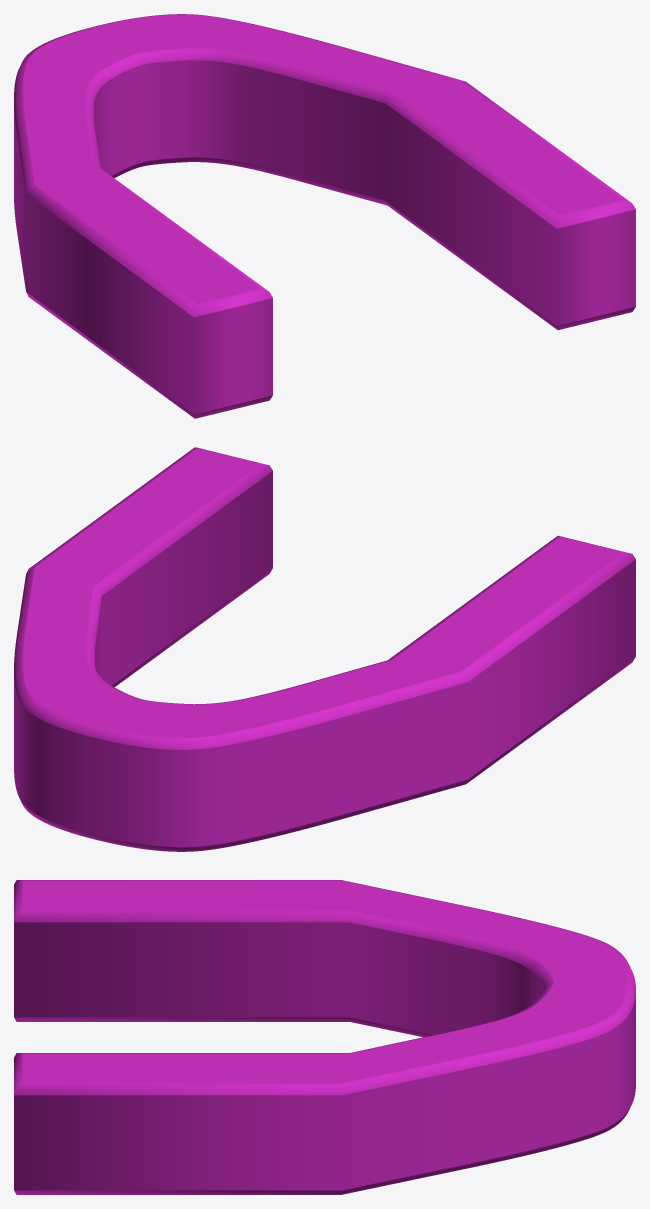
Rendered from Letter_V_Capital_CoolFont.fbx.
3 renders of one model, top to bottom at view 1: azimuth 30°, elevation 25°; view 2: azimuth 150°, elevation 25°; view 3: azimuth 270°, elevation 25°, orthographic. The views are drawn at different scales.
Parts seen in each view (by area): view 1: Letter_V; view 2: Letter_V; view 3: Letter_V.
Part boxes in pixels (box(x1,y1,x2,y2)): Letter_V: box(14, 14, 635, 418); Letter_V: box(14, 447, 635, 851); Letter_V: box(14, 880, 635, 1194).
Bounding box in the file's own units: 0.5707 × 0.14 × 0.712.
